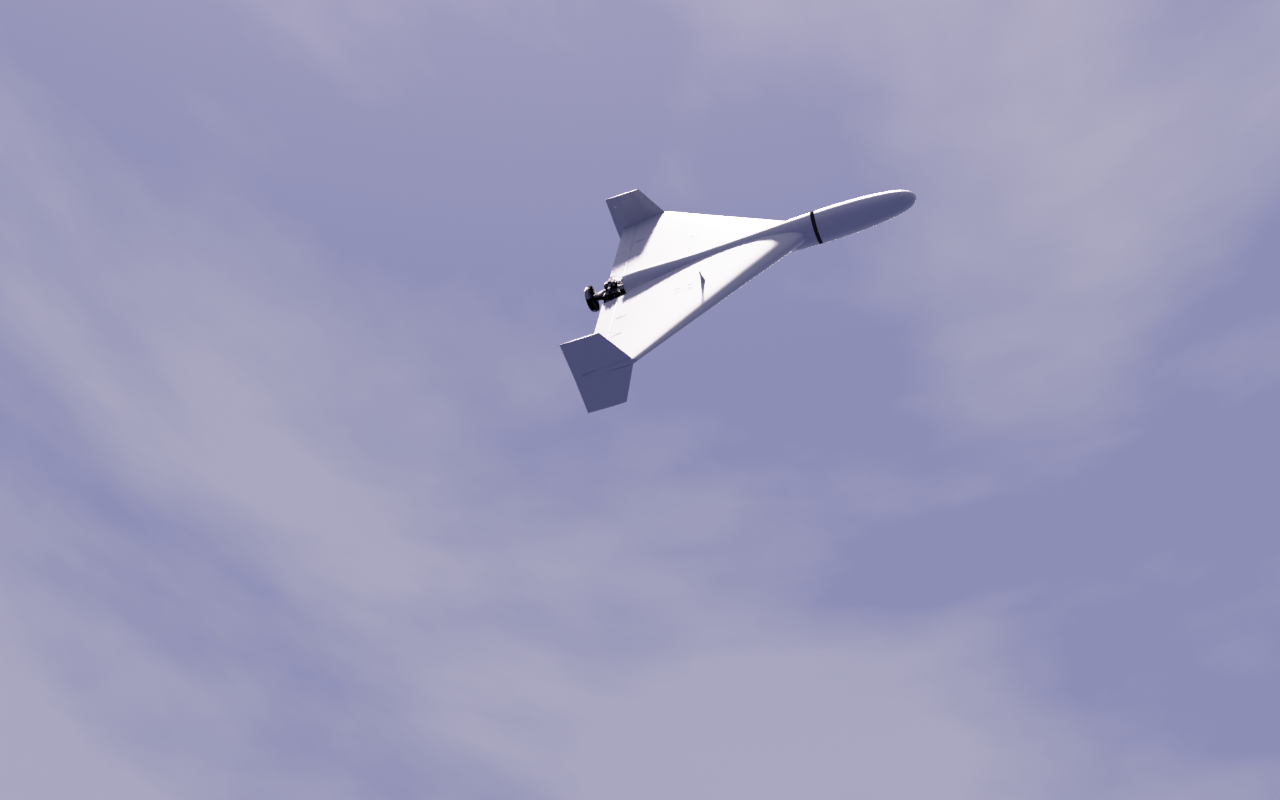shahed: (560, 189, 918, 415)
